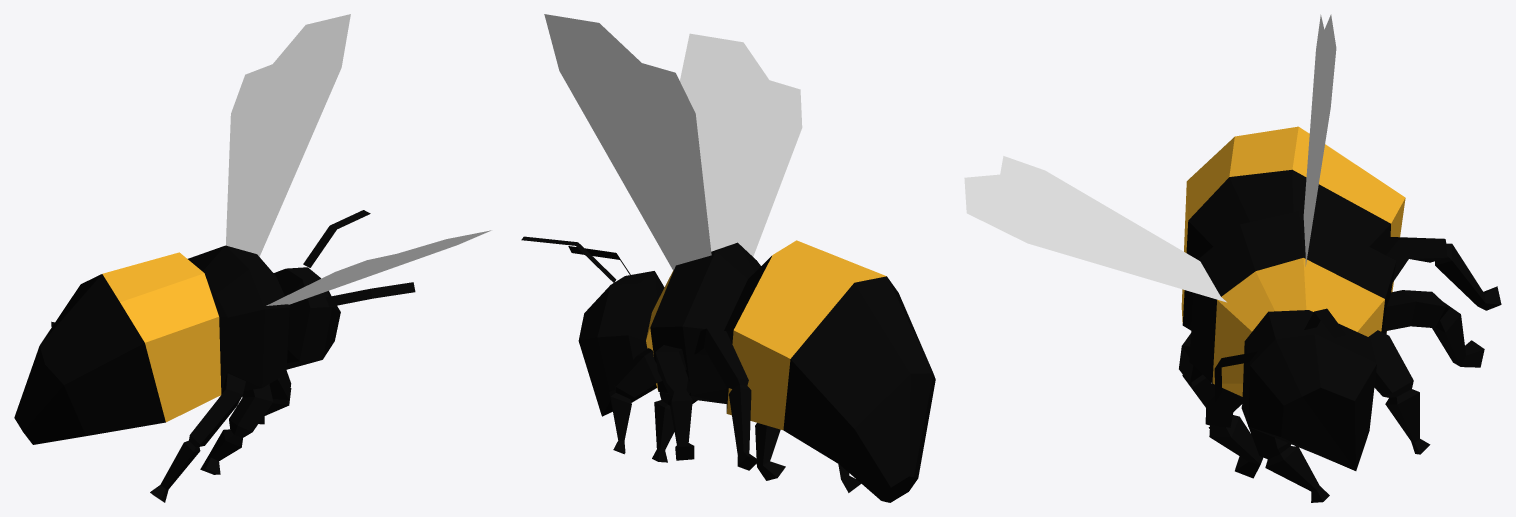
File: bee.fbx
3 renders of one model, left to right at view 1: azimuth 30°, elevation 25°; view 2: azimuth 150°, elevation 25°; view 3: azimuth 270°, elevation 25°, orthographic. The views are drawn at different scales.
Visible parts, largest first — view 1: Honey_bee.001; view 2: Honey_bee.001; view 3: Honey_bee.001.
Part boxes in pixels (bbox=[...]): Honey_bee.001: bbox=[14, 14, 491, 502]; Honey_bee.001: bbox=[521, 14, 935, 502]; Honey_bee.001: bbox=[964, 14, 1501, 502].
Size of the model in its own units: 74.58 by 81.77 by 72.4.
